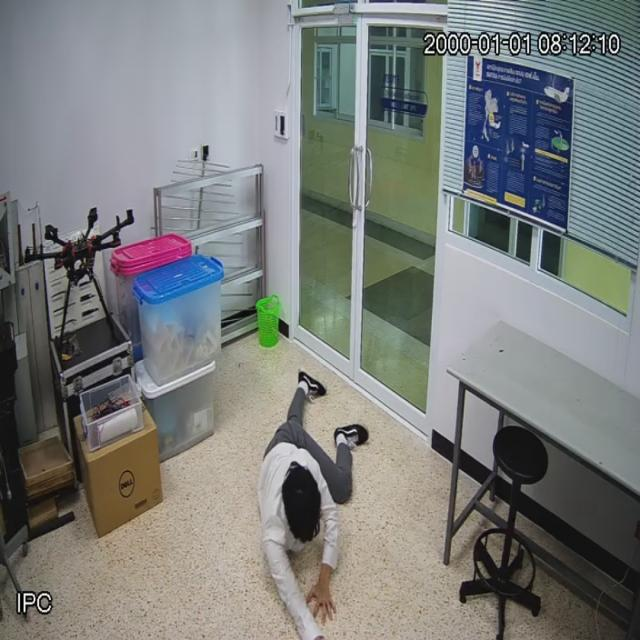fall: (254, 359, 373, 640)
